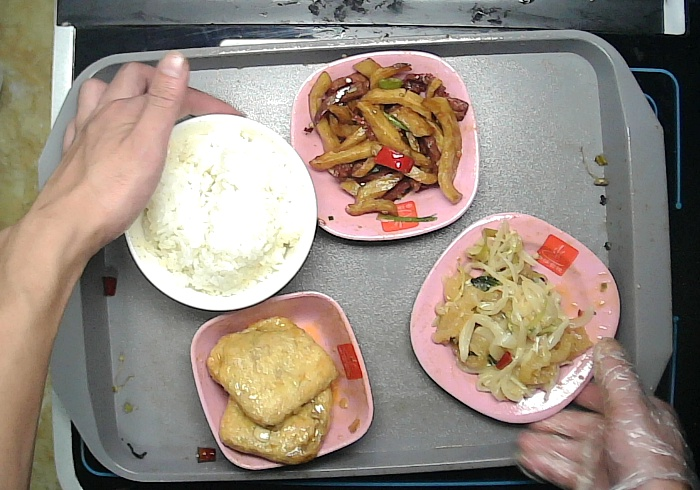SHKJ-Fan_Wan: (119, 110, 320, 313)
SHKJ-Fen_Se_Cai_Die: (287, 45, 481, 246)
SHKJ-Fen_Se_Si_Fang_Cai_Die: (406, 210, 623, 426)
SHKJ-Fen_Se_Xiao_Fang_Die: (187, 288, 377, 472)
